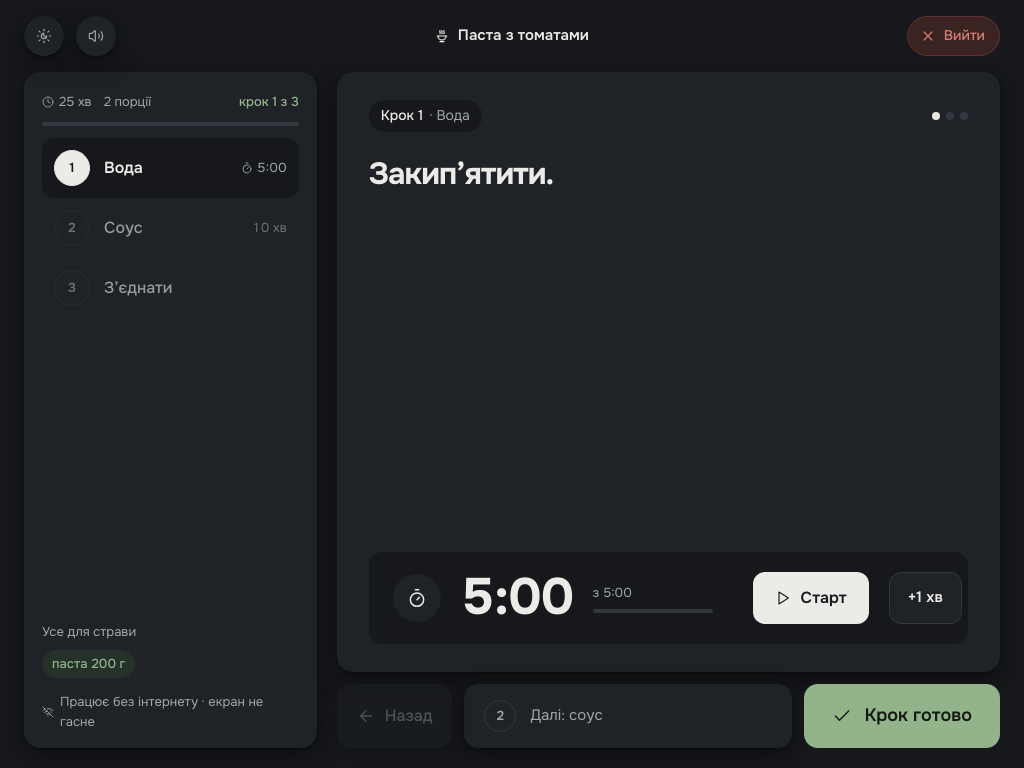
Test: №10 · маршрут відкритий › таймер кроку, з якого пішли, іде далі; повернення показує залишок, не повний час
Click the button "Старт": (811,598) 753,572 -> 869,624
Wait 3000 ms
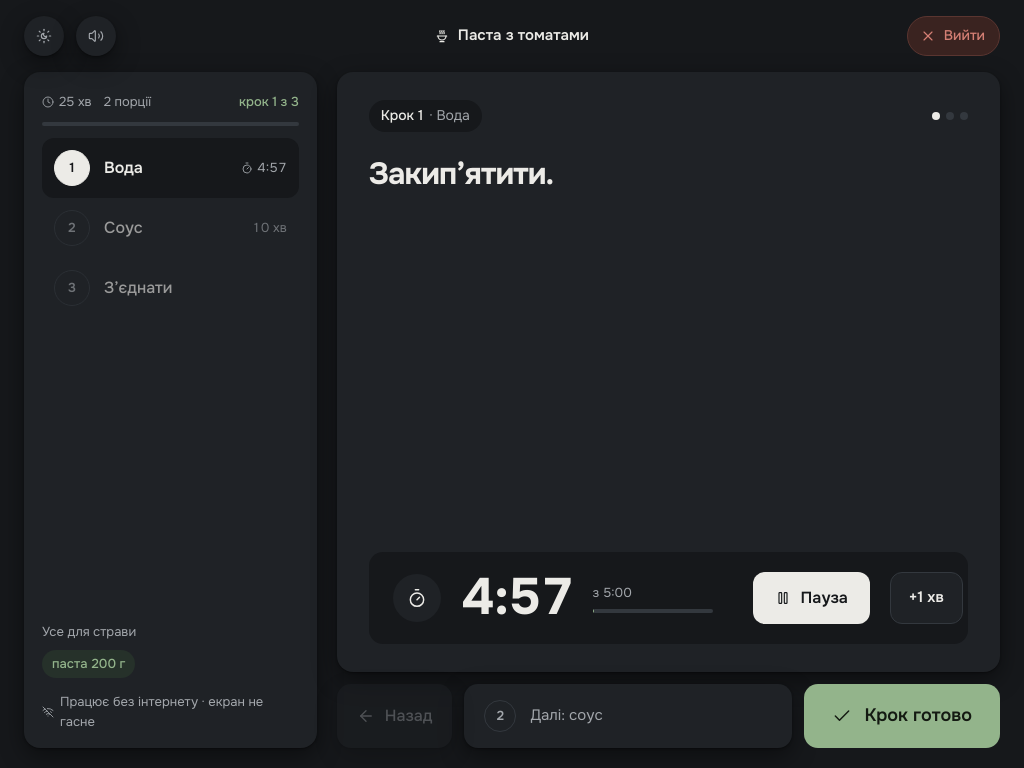
Click the button "3 Зʼєднати": (170,288) 42,258 -> 299,318
Wait 3000 ms
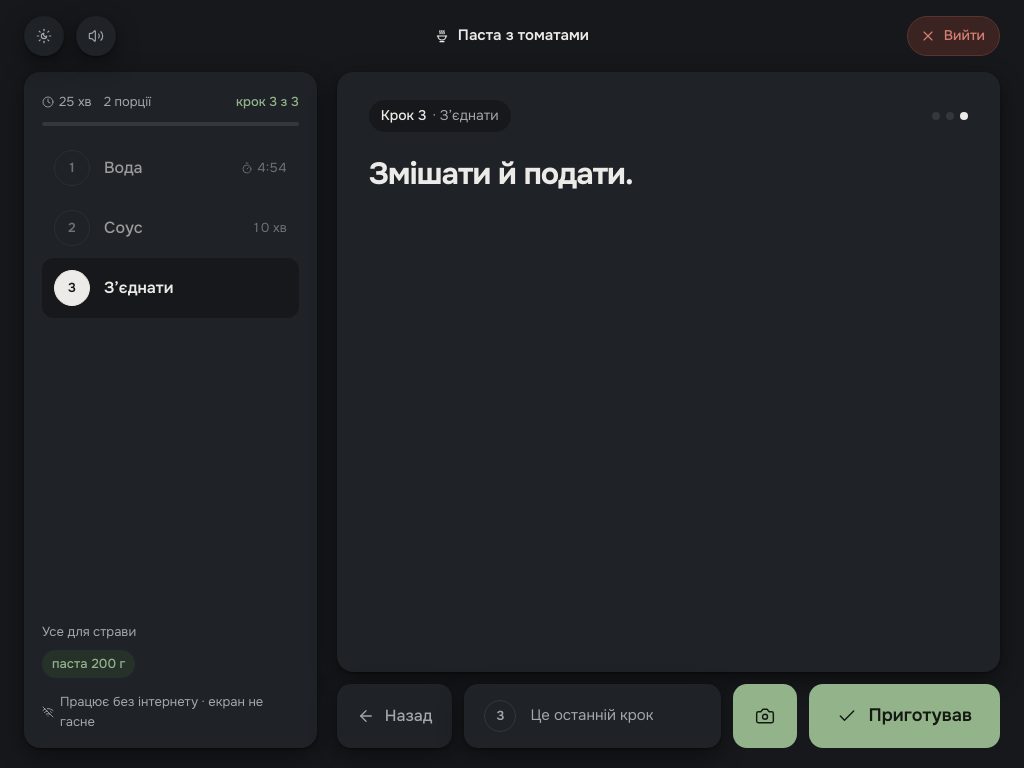
Check: the button "1 Вода 4:54" is shown
Click the button "1 Вода 4:54": (170,168) 42,138 -> 299,198
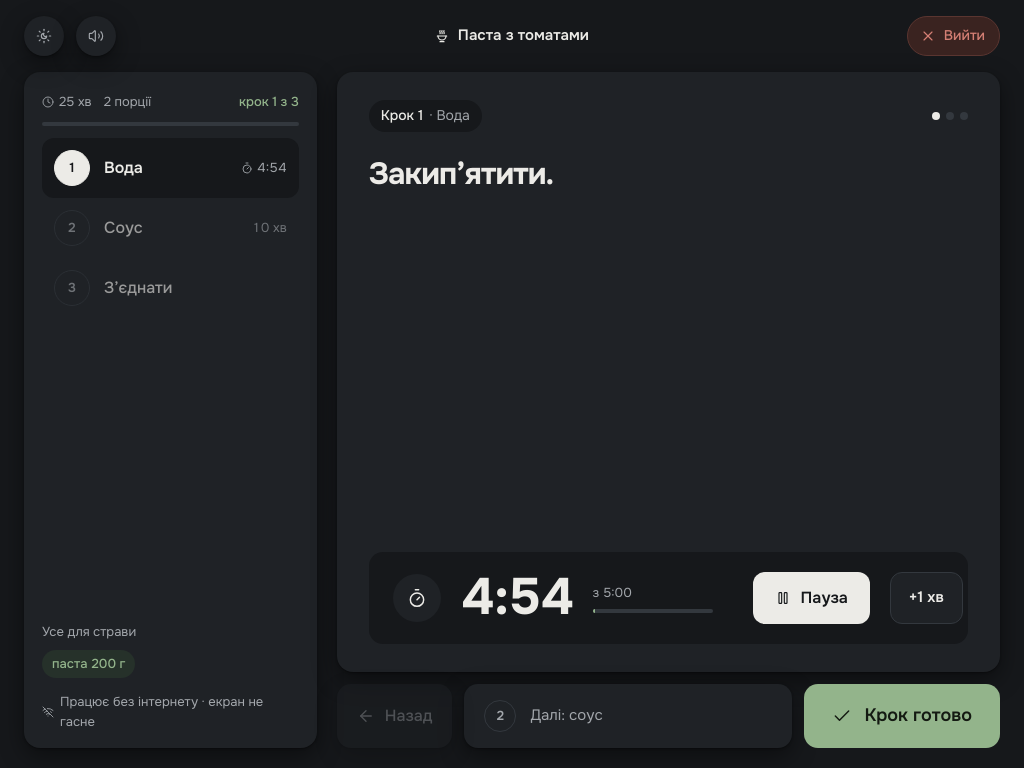
Check: the text "4:54" is shown, box 461,572 -> 573,624
